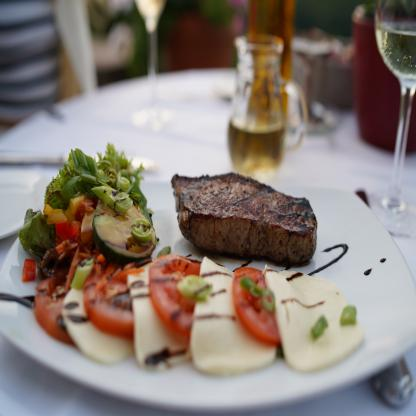Carne: (166, 169, 318, 258)
